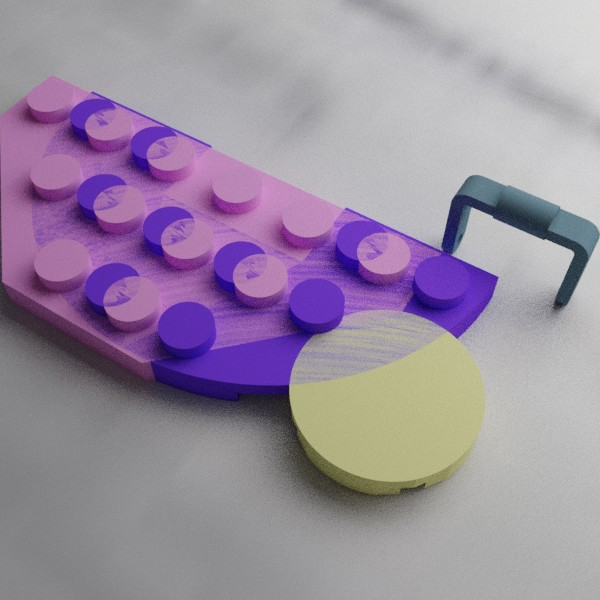lego: (31, 91, 498, 403), (0, 74, 441, 382), (289, 309, 485, 494), (441, 174, 599, 305)
